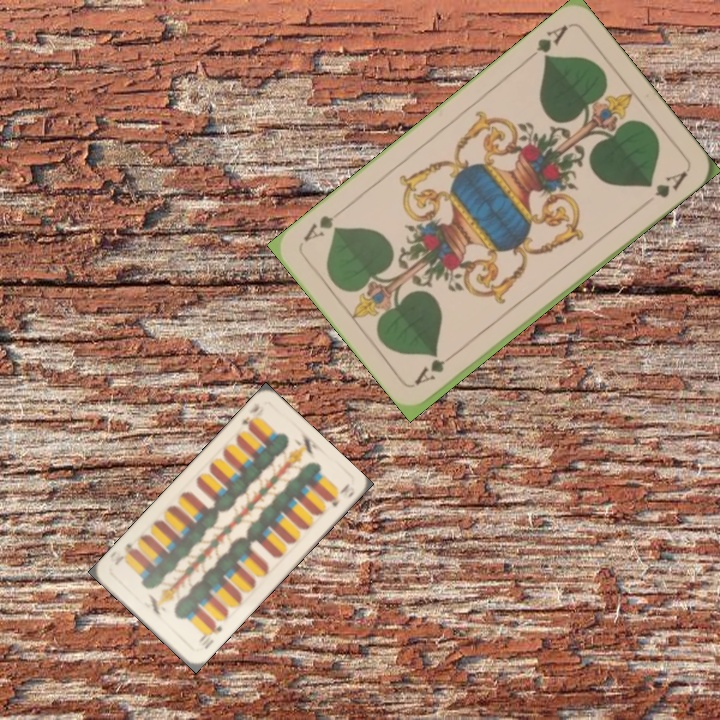E10: (194, 618, 225, 652), (237, 399, 267, 432)
GA: (522, 20, 571, 63), (410, 347, 461, 388)
